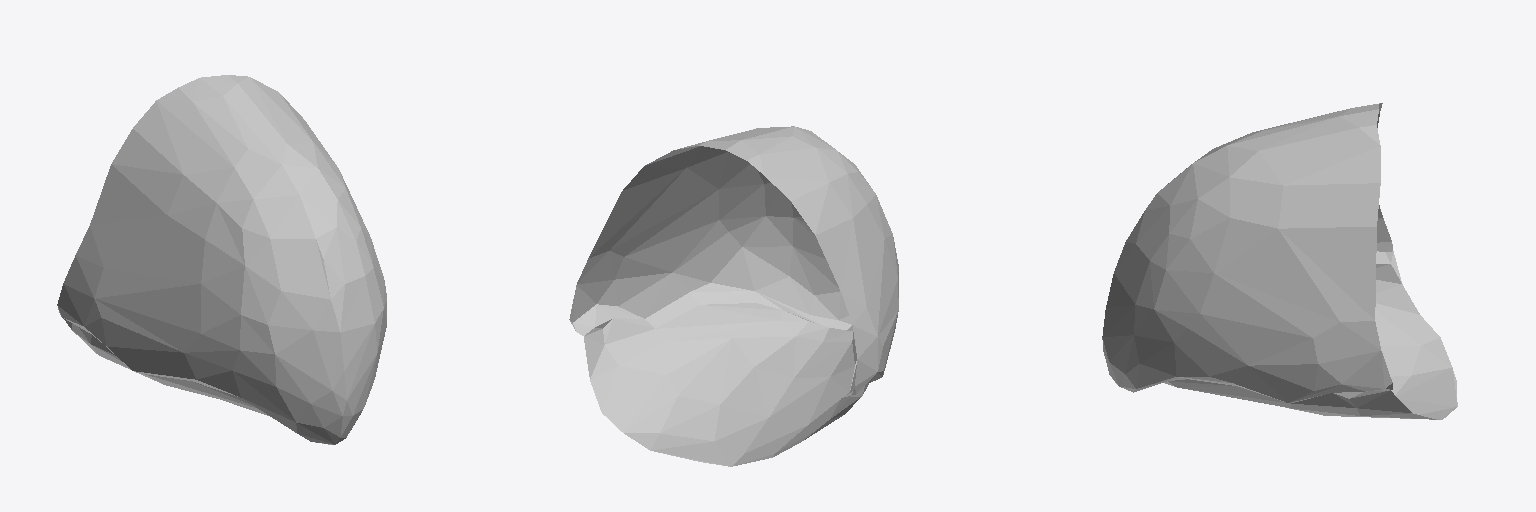
The model's file is beak_headless.obj.
3 renders of one model, left to right at view 1: azimuth 30°, elevation 25°; view 2: azimuth 150°, elevation 25°; view 3: azimuth 270°, elevation 25°, orthographic.
Parts seen in each view (by area): view 1: UMesh_Chocobo.002; view 2: UMesh_Chocobo.002; view 3: UMesh_Chocobo.002.
Part boxes in pixels (x1,y1,x2,y2): UMesh_Chocobo.002: (57,75,386,444); UMesh_Chocobo.002: (569,126,898,466); UMesh_Chocobo.002: (1102,103,1457,419).
Bounding box in the file's own units: 1.16 × 1.12 × 1.25.